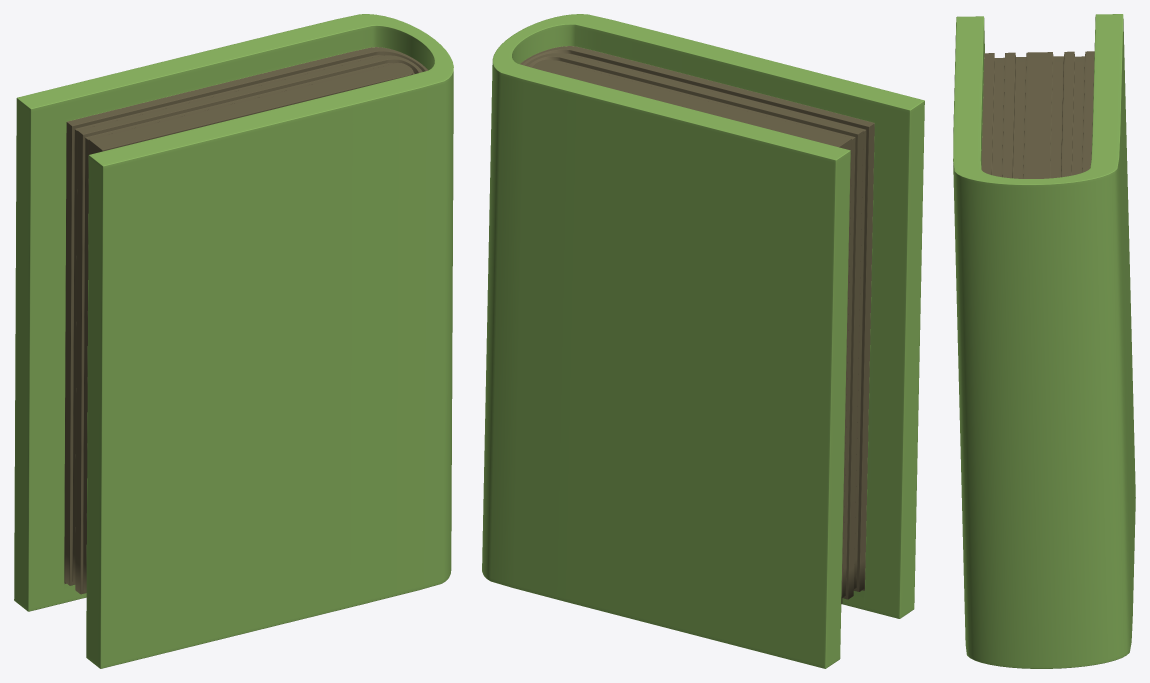
File: Libro3_high.fbx
The picture shows the model from 3 angles, left to right: view 1: azimuth 30°, elevation 25°; view 2: azimuth 150°, elevation 25°; view 3: azimuth 270°, elevation 25°; orthographic projection. The views are drawn at different scales.
Visible parts, largest first — view 1: Libro3_high; view 2: Libro3_high; view 3: Libro3_high.
Part boxes in pixels (x1,y1,x2,y2): Libro3_high: (14,14,453,668); Libro3_high: (482,14,924,668); Libro3_high: (953,14,1135,668).
Size of the model in its own units: 1.36 by 1.77 by 0.6007.
